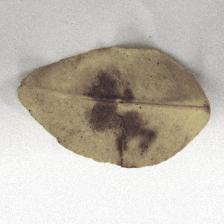canker: (70, 66, 155, 162)
